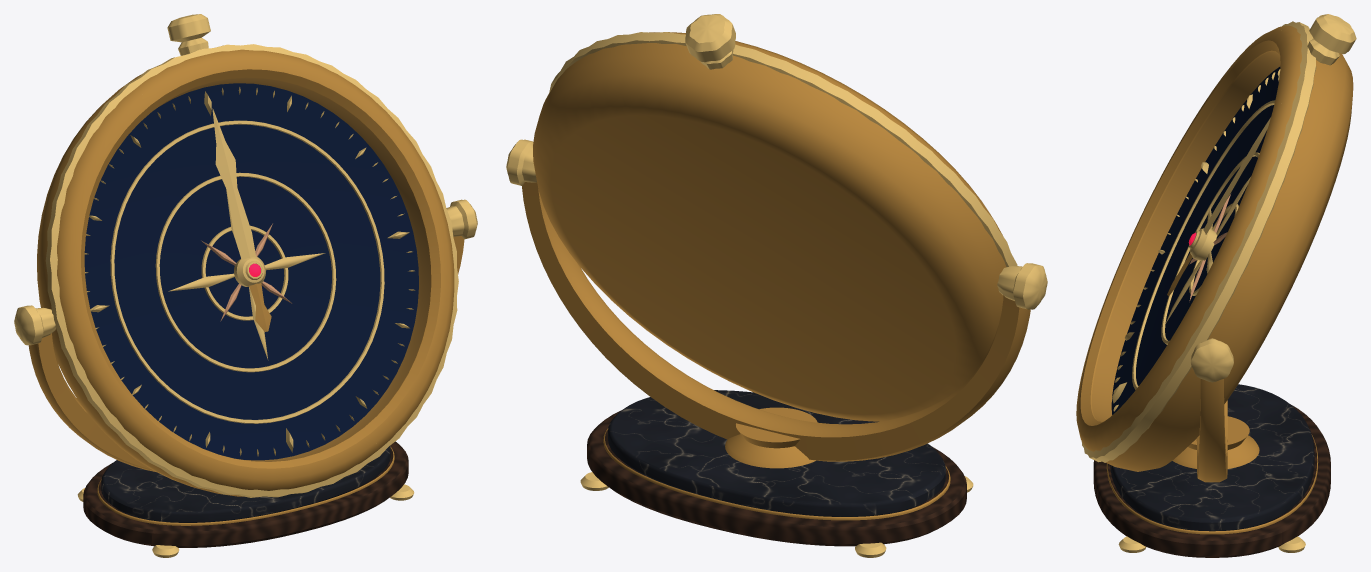
Rendered from calibrator_chronometer.glb.
The picture shows the model from 3 angles, left to right: view 1: azimuth 30°, elevation 25°; view 2: azimuth 150°, elevation 25°; view 3: azimuth 270°, elevation 25°; orthographic projection. The views are drawn at different scales.
Visible parts, largest first — view 1: Chronometer_Face, Chronometer_Bezel, Chronometer_Stand, Chronometer_Needle; view 2: Chronometer_Bezel, Chronometer_Stand; view 3: Chronometer_Bezel, Chronometer_Stand, Chronometer_Face, Chronometer_Needle.
Boxes of the visible parts, <box> form: Chronometer_Face: <box>84,83,418,460</box>; Chronometer_Bezel: <box>37,14,458,497</box>; Chronometer_Stand: <box>14,199,477,557</box>; Chronometer_Needle: <box>212,108,271,331</box>; Chronometer_Bezel: <box>533,14,1017,421</box>; Chronometer_Stand: <box>506,139,1047,557</box>; Chronometer_Bezel: <box>1076,14,1356,471</box>; Chronometer_Stand: <box>1093,338,1330,557</box>; Chronometer_Face: <box>1111,67,1280,414</box>; Chronometer_Needle: <box>1167,117,1270,296</box>.
Bounding box in the file's own units: 0.768 × 0.7199 × 0.3893.
10 materials, 2 textured.
